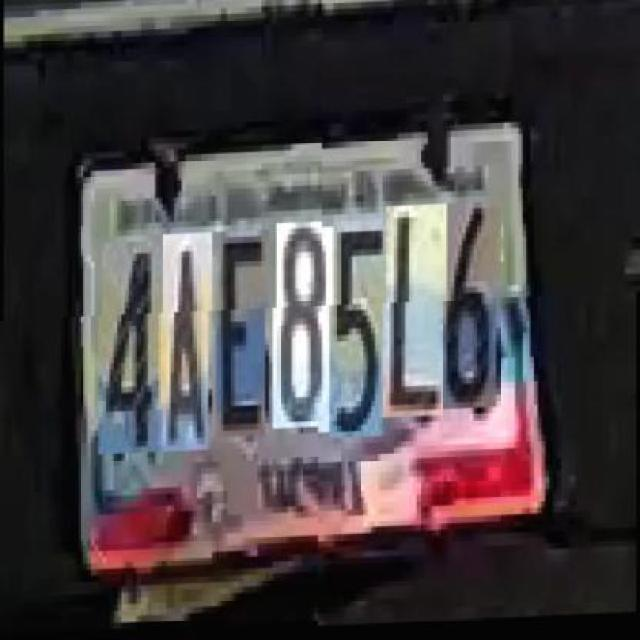4: (102, 248, 162, 462)
5: (333, 216, 387, 441)
6: (447, 205, 501, 413)
8: (276, 230, 333, 438)
a: (163, 240, 212, 458)
e: (220, 238, 269, 445)
l: (385, 208, 447, 422)
